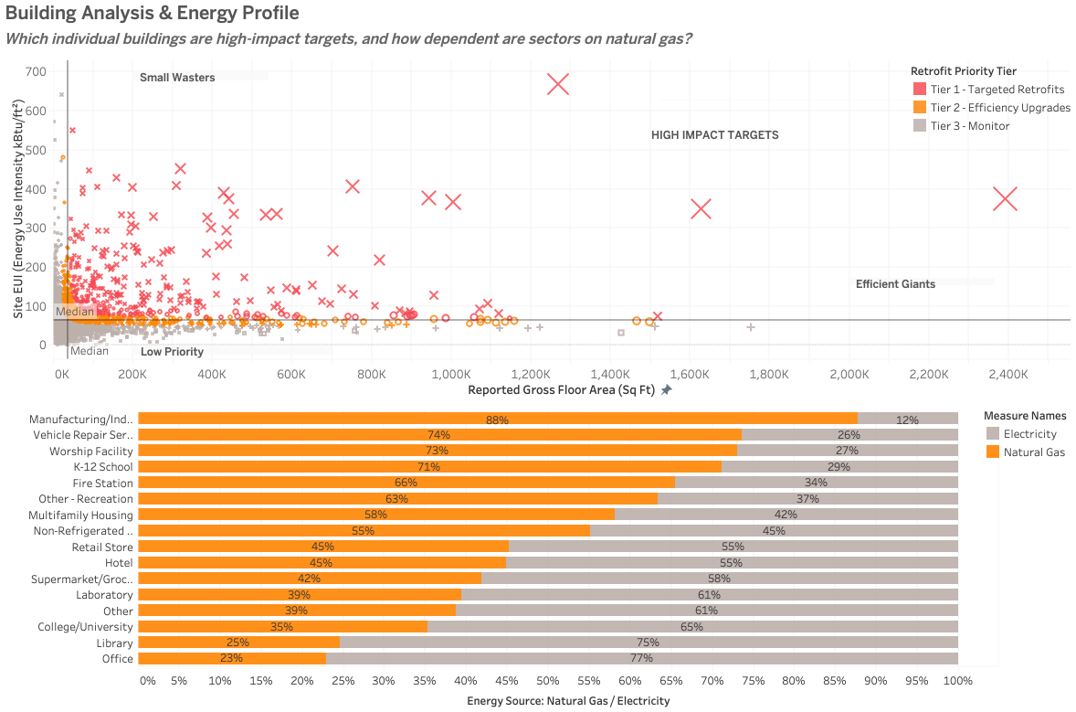

This screenshot's page, from the dashboard's own definition file:
{"tool":"tableau","page":{"name":"Dashboard 3 - Building Analysis","canvas":[1200,800],"ordinal":2},"visuals":[{"type":"title","box":[8,8,1184,32]},{"type":"text","box":[11,38,779,29]},{"type":"worksheet","title":"WS8: Quadrant Scatter Plot - Floor Area vs. EUI","mark":"Shape","rows":["Site EUI (Energy Use Intensity kBtu/ft²)"],"cols":["Reported Gross Floor Area (Sq Ft)"],"box":[19,76,1162,369]},{"type":"legend","title":"WS8: Quadrant Scatter Plot - Floor Area vs. EUI","param":"[federated.1oylx0e1o5ow0m1g6vrsp1m563vq].[none:Retrofit Priority Tier:nk]","box":[1006,79,180,78]},{"type":"legend","title":"WS9: Stacked Bar - Energy Source Mix","param":"[federated.1oylx0e1o5ow0m1g6vrsp1m563vq].[:Measure Names]","box":[1086,456,96,58]},{"type":"worksheet","title":"WS9: Stacked Bar - Energy Source Mix","mark":"Bar","rows":["Property Type Group"],"box":[40,459,1063,326]}]}

Visuals, with their boxes in screenshot pixels (x1, y1, x2, y2), scaled from the page's 1200x800 canvas onto the 1076x712 screenshot:
title: Rect(7, 7, 1069, 36)
text: Rect(10, 34, 708, 60)
"WS8: Quadrant Scatter Plot - Floor Area vs. EUI" worksheet (Shape marks): Rect(17, 68, 1059, 396)
"WS8: Quadrant Scatter Plot - Floor Area vs. EUI" legend: Rect(902, 70, 1063, 140)
"WS9: Stacked Bar - Energy Source Mix" legend: Rect(974, 406, 1060, 457)
"WS9: Stacked Bar - Energy Source Mix" worksheet (Bar marks): Rect(36, 409, 989, 699)
